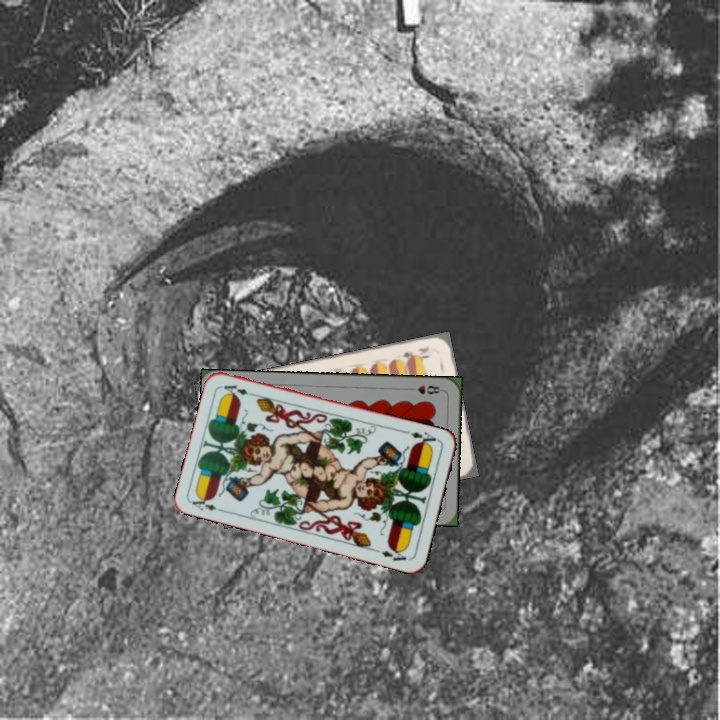E10: (398, 342, 432, 363)
EA: (188, 492, 228, 515), (407, 427, 442, 450)
H8: (404, 381, 445, 397)
